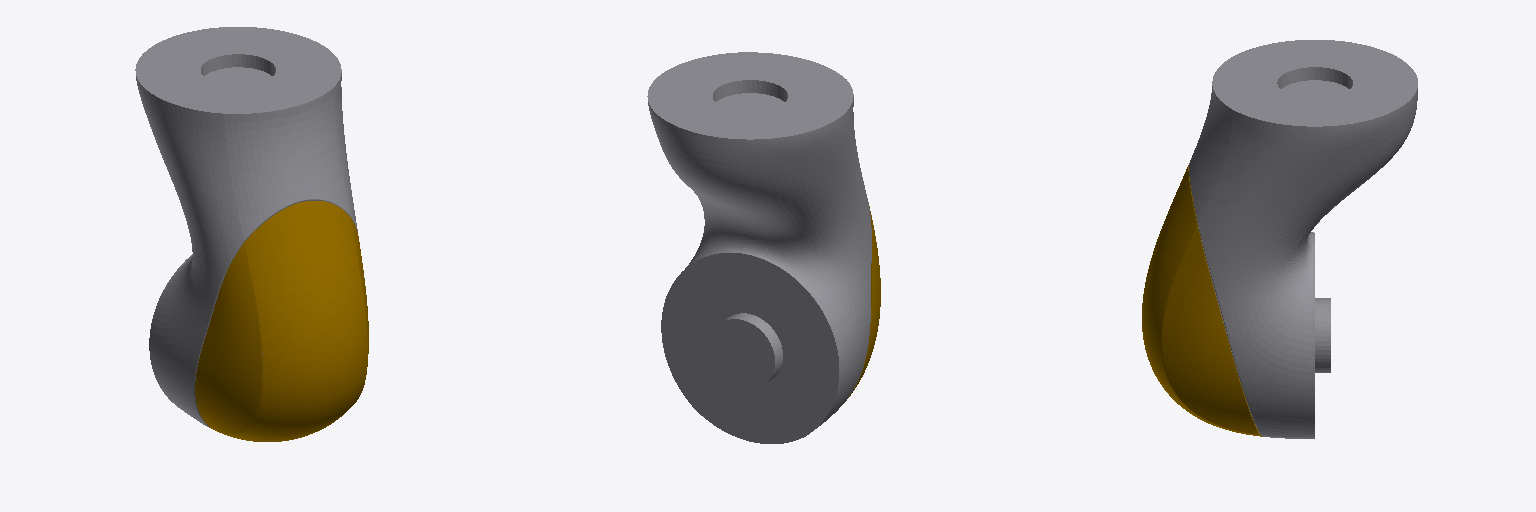
3 views of the same model, side by side, from view 1: azimuth 30°, elevation 25°; view 2: azimuth 150°, elevation 25°; view 3: azimuth 270°, elevation 25° (orthographic).
Visible parts, largest first — view 1: node0.001_Mesh.000; view 2: node0.001_Mesh.000; view 3: node0.001_Mesh.000.
Boxes of the visible parts, x1,y1,x2,y2 form: node0.001_Mesh.000: [135, 27, 368, 441]; node0.001_Mesh.000: [647, 52, 880, 443]; node0.001_Mesh.000: [1142, 40, 1417, 438].
Size of the model in its own units: 0.136 by 0.252 by 0.1826.
Materials: 1 (1 with a texture image).